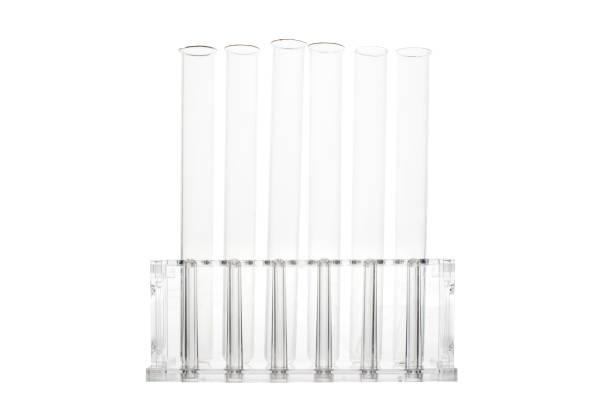Test tube: (305, 38, 344, 394), (350, 34, 388, 391), (395, 35, 430, 391), (262, 38, 294, 384), (222, 44, 250, 402), (180, 44, 207, 389)
